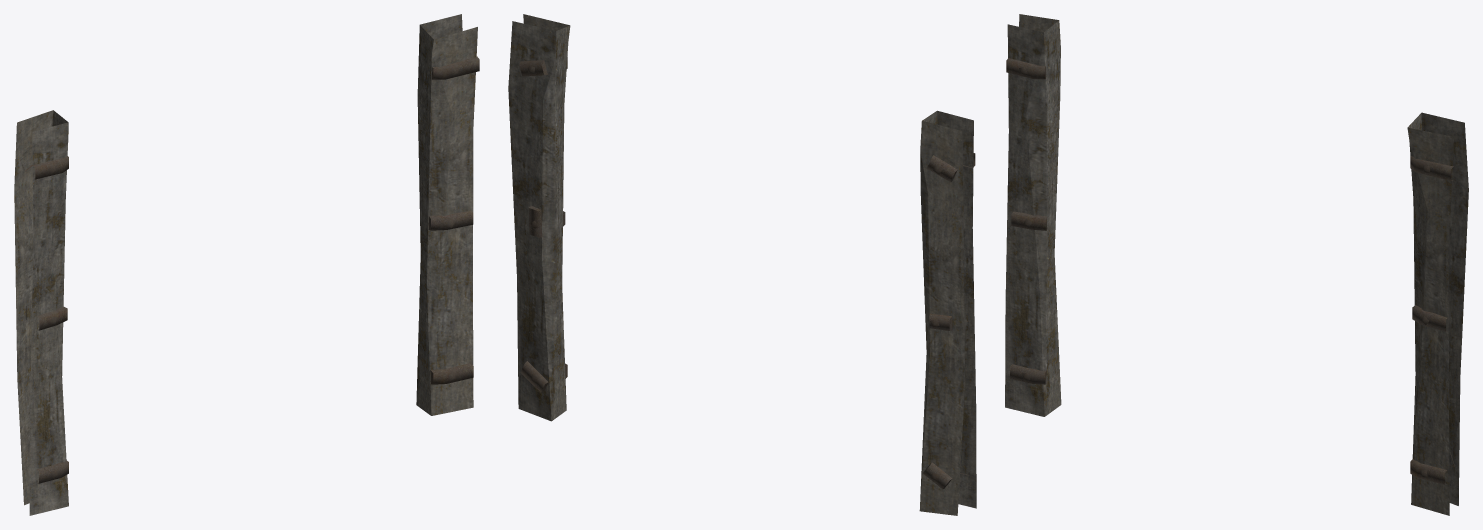
Rendered from door_surround.fbx.
3 views of the same model, side by side, from view 1: azimuth 30°, elevation 25°; view 2: azimuth 150°, elevation 25°; view 3: azimuth 330°, elevation 25° (orthographic).
Parts seen in each view (by area): view 1: door_surround; view 2: door_surround; view 3: door_surround.
Part boxes in pixels (<box>): door_surround: <box>14,14,479,515</box>; door_surround: <box>508,14,976,515</box>; door_surround: <box>1005,14,1468,515</box>.
Bounding box in the file's own units: 124 × 101 × 11.03.
